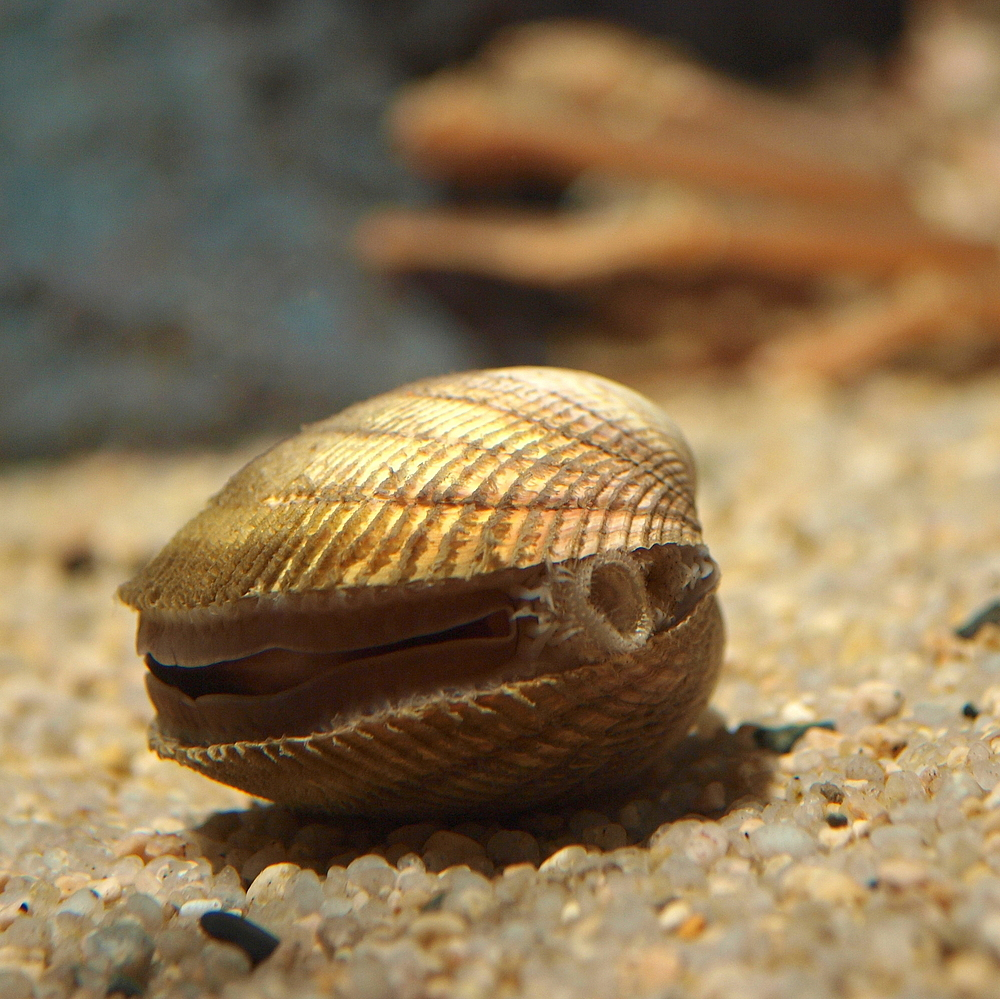cockle: (118, 361, 734, 831)
